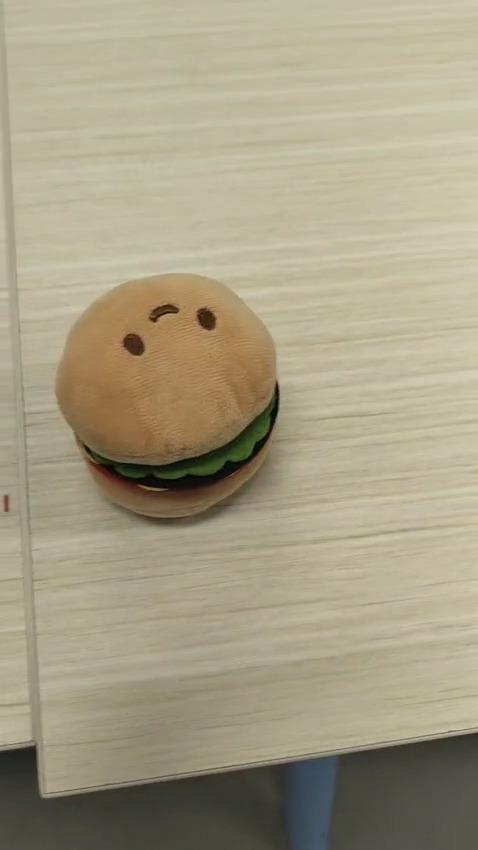hamburger: (53, 271, 280, 520)
